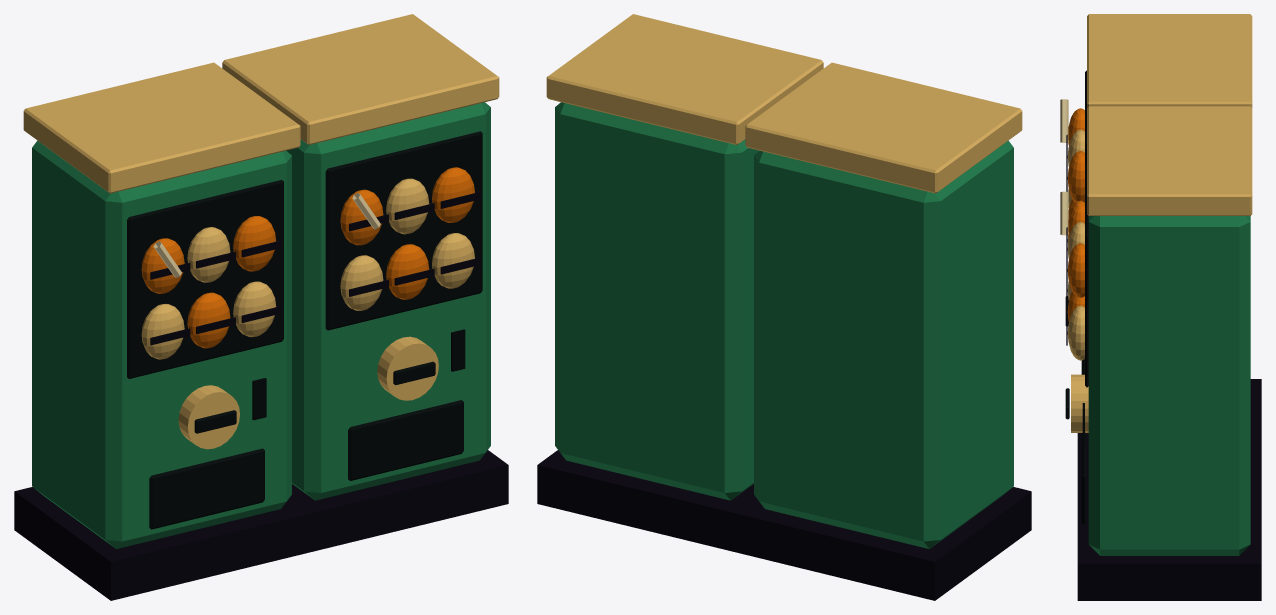
Rendered from mall_r5_capsule_large.fbx.
3 renders of one model, left to right at view 1: azimuth 30°, elevation 25°; view 2: azimuth 150°, elevation 25°; view 3: azimuth 270°, elevation 25°, orthographic. The views are drawn at different scales.
Parts seen in each view (by area): view 1: Part_0, Part_2, Part_1, Part_-1, Part_3, Part_4; view 2: Part_0, Part_1, Part_2, Part_-1; view 3: Part_1, Part_2, Part_-1, Part_0, Part_4.
Part boxes in pixels (bbox=[...]): Part_0: bbox=[32, 148, 291, 541]; Part_2: bbox=[23, 14, 499, 202]; Part_1: bbox=[286, 107, 490, 492]; Part_-1: bbox=[14, 432, 508, 600]; Part_3: bbox=[122, 203, 286, 541]; Part_4: bbox=[321, 155, 485, 492]; Part_0: bbox=[754, 148, 1013, 541]; Part_1: bbox=[555, 107, 759, 492]; Part_2: bbox=[546, 14, 1022, 202]; Part_-1: bbox=[537, 450, 1031, 600]; Part_1: bbox=[1060, 163, 1250, 549]; Part_2: bbox=[1087, 14, 1252, 226]; Part_-1: bbox=[1077, 379, 1261, 600]; Part_0: bbox=[1060, 70, 1086, 242]; Part_4: bbox=[1065, 388, 1088, 523].
Bounding box in the file's own units: 5.2 × 5.31 × 2.39.
